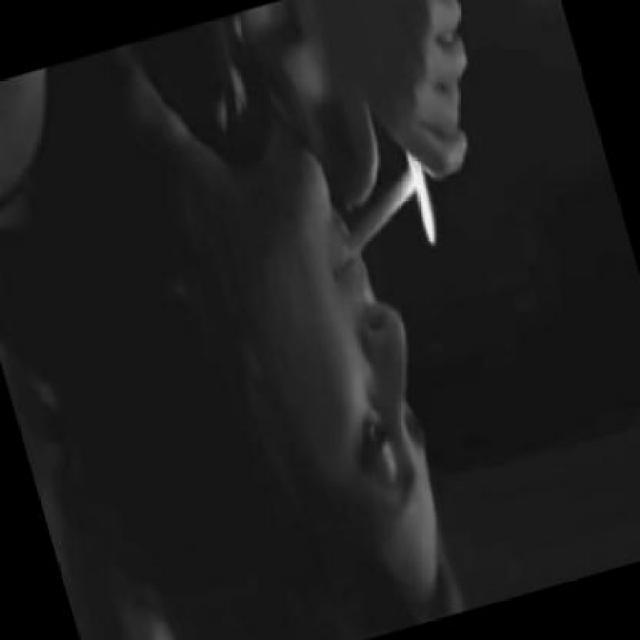smoke: (323, 150, 440, 262)
